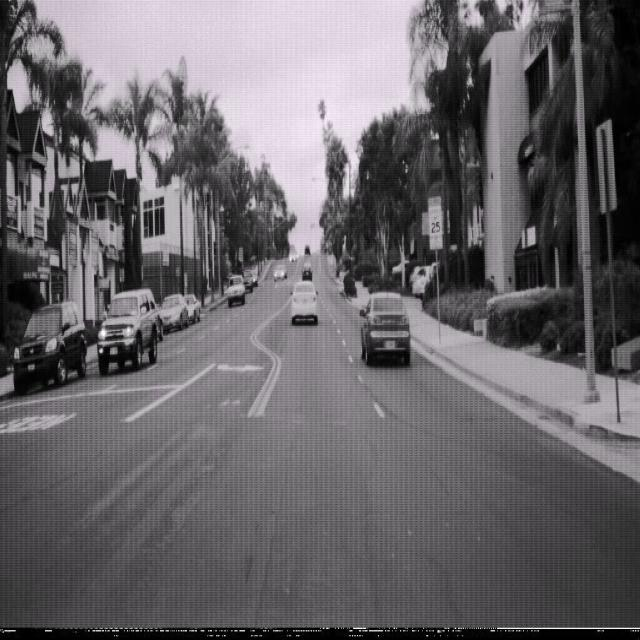speedLimit25: (428, 195, 443, 250)
